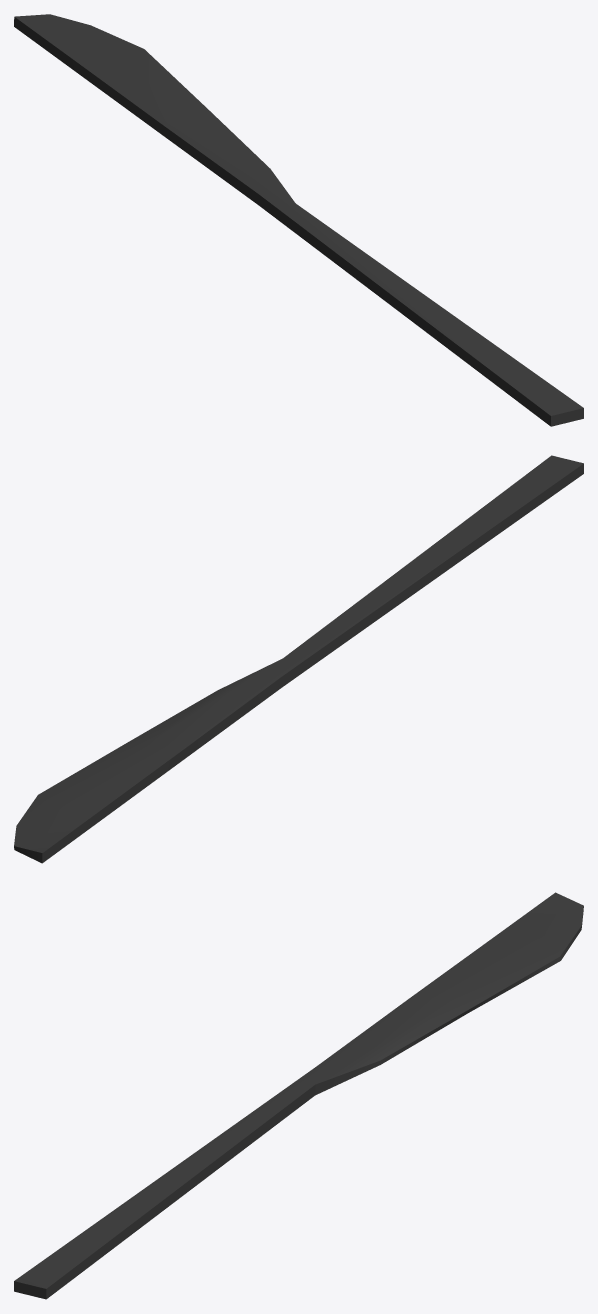
The model's file is Knife.FBX.
The picture shows the model from 3 angles, top to bottom: view 1: azimuth 30°, elevation 25°; view 2: azimuth 150°, elevation 25°; view 3: azimuth 330°, elevation 25°; orthographic projection.
Parts seen in each view (by area): view 1: KNife; view 2: KNife; view 3: KNife.
Part boxes in pixels (box(x1,y1,x2,y2)): KNife: box(14, 14, 583, 426); KNife: box(14, 455, 583, 863); KNife: box(14, 892, 583, 1299).
Bounding box in the file's own units: 7.41 × 1.09 × 92.29.
